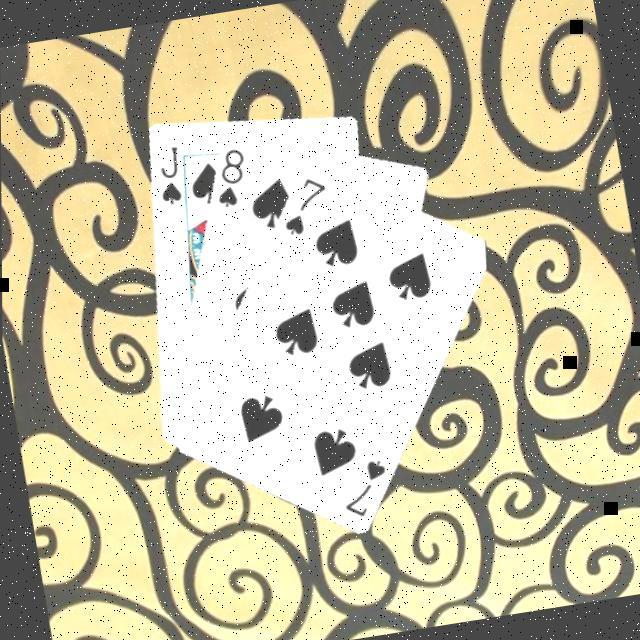7S: (273, 171, 336, 241), (334, 455, 397, 524)
8S: (206, 144, 255, 213)
JS: (149, 143, 189, 211)
